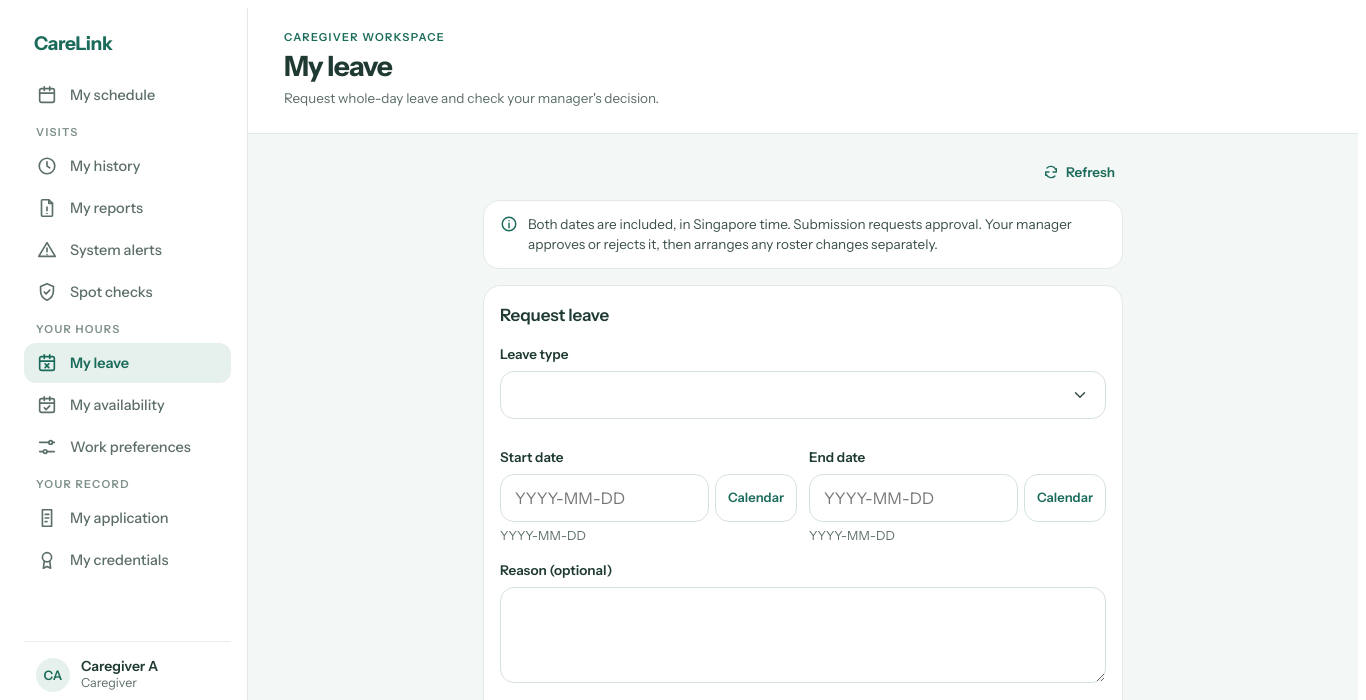
Scenario: caregiver leave self-service › removes records and input on read access loss 403
Expected: the heading "My leave" is shown, [284,49,392,83]
Type "Family time" into the text box labelled "Reason (optional)".
click(803, 635); type("Family time")  # box [500,587,1106,683]
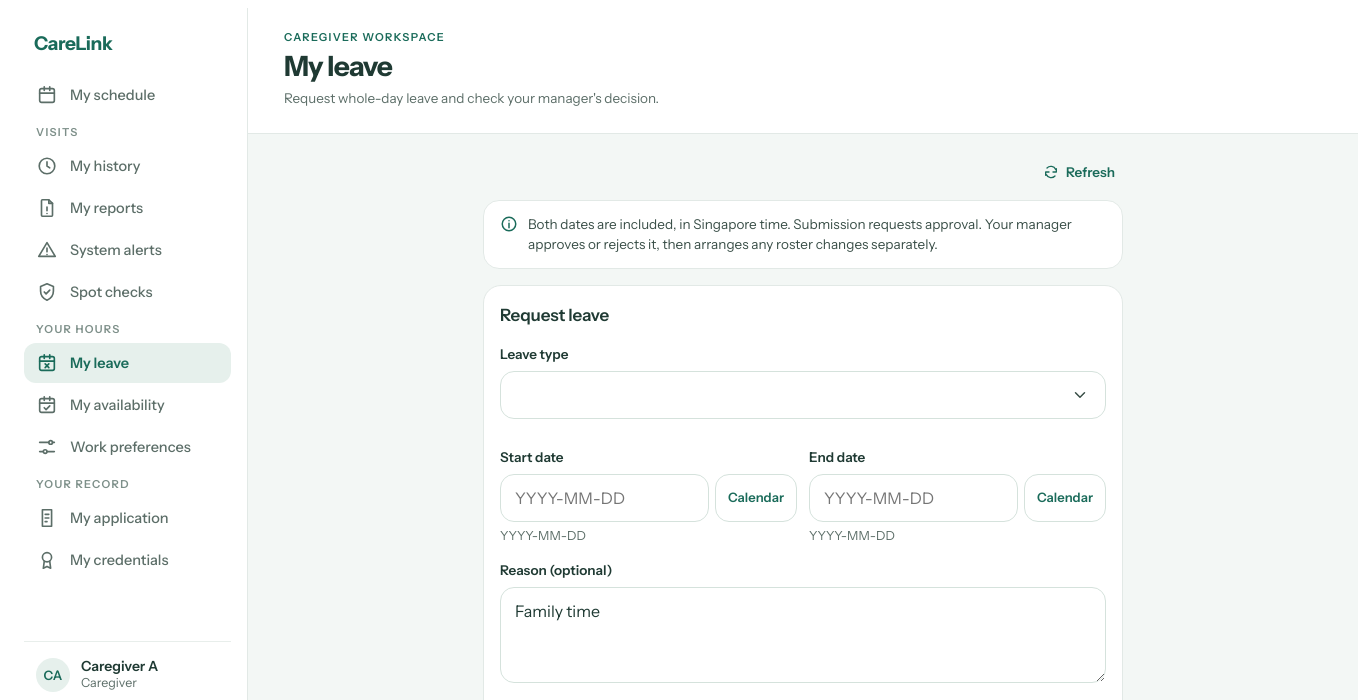
Click the button "Refresh".
click(1079, 172)  # box [1035,150,1123,194]
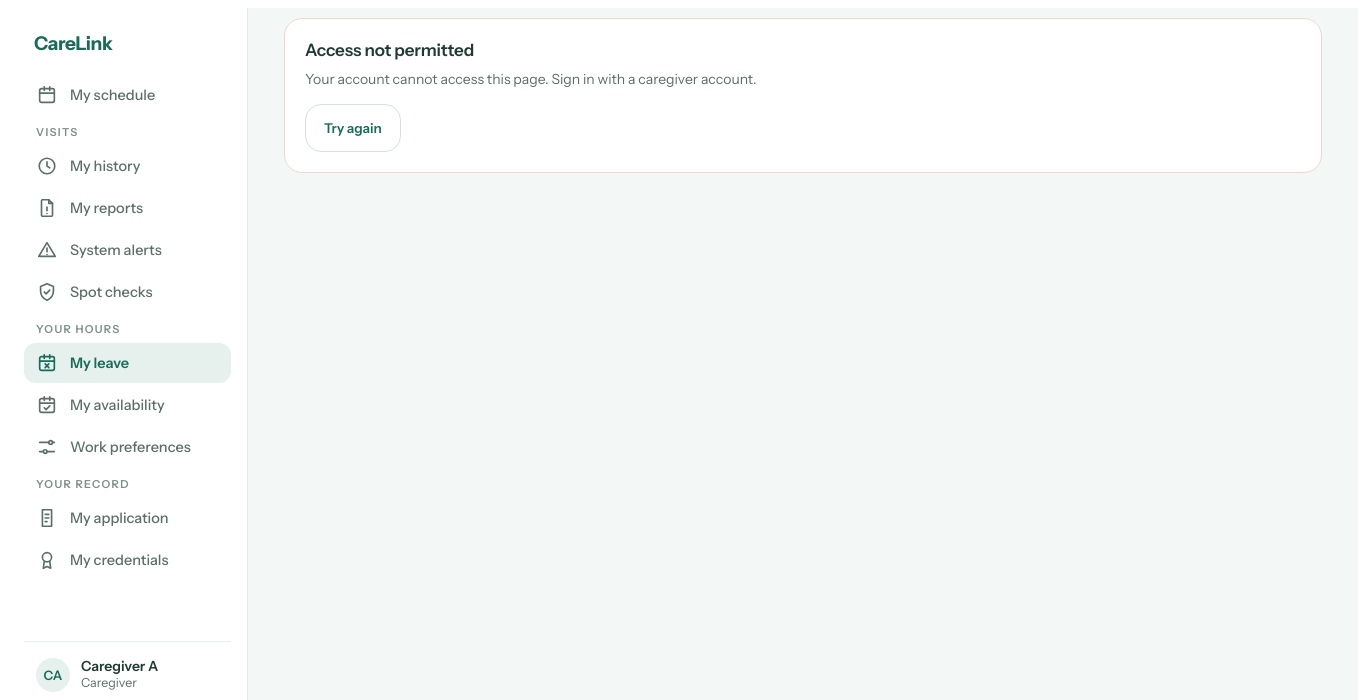
Result: the heading "Access not permitted" is shown at [305,40,474,60]
Result: the label labelled "Reason (optional)" is gone
